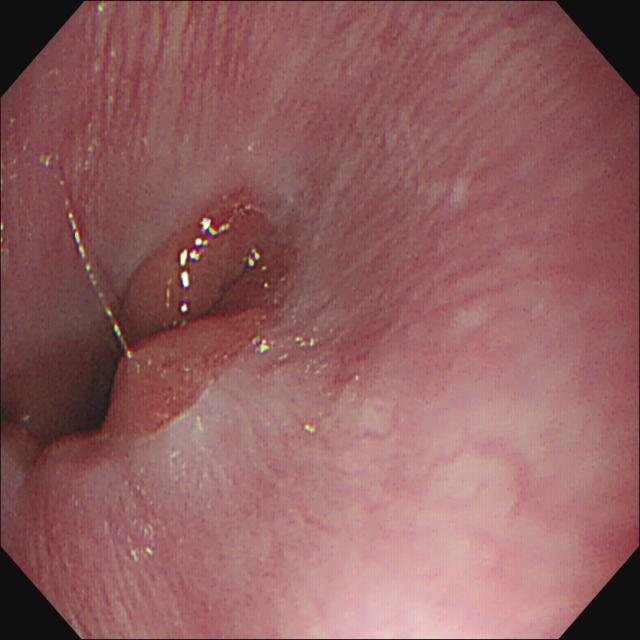I: (3, 178, 314, 493)
U: (69, 208, 127, 350), (179, 217, 232, 313), (247, 245, 262, 270)
